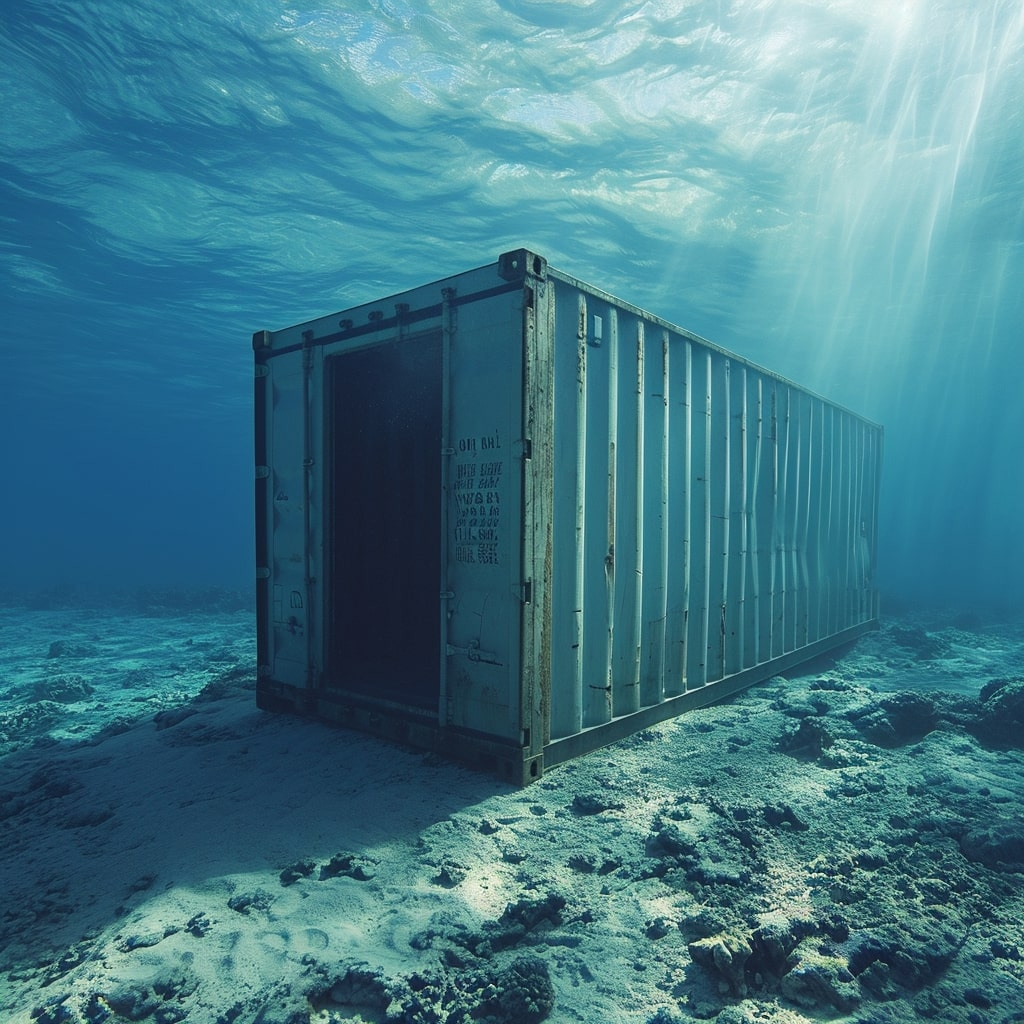Container: (237, 245, 890, 797)
